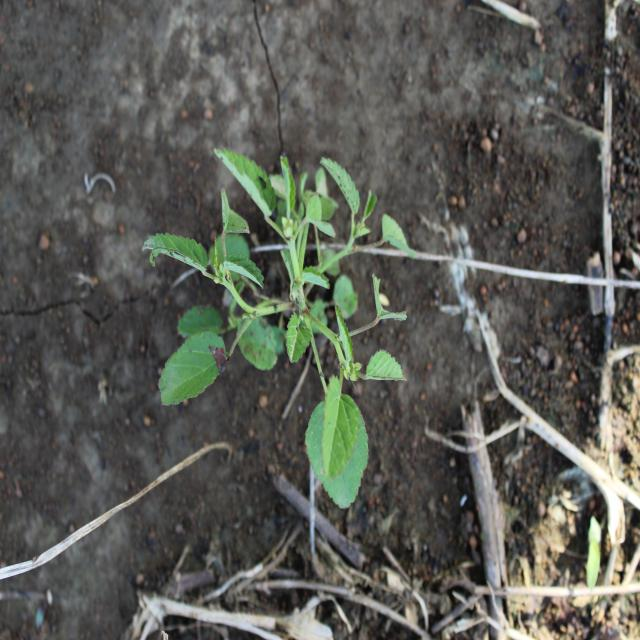PricklySida: (140, 142, 414, 512)
